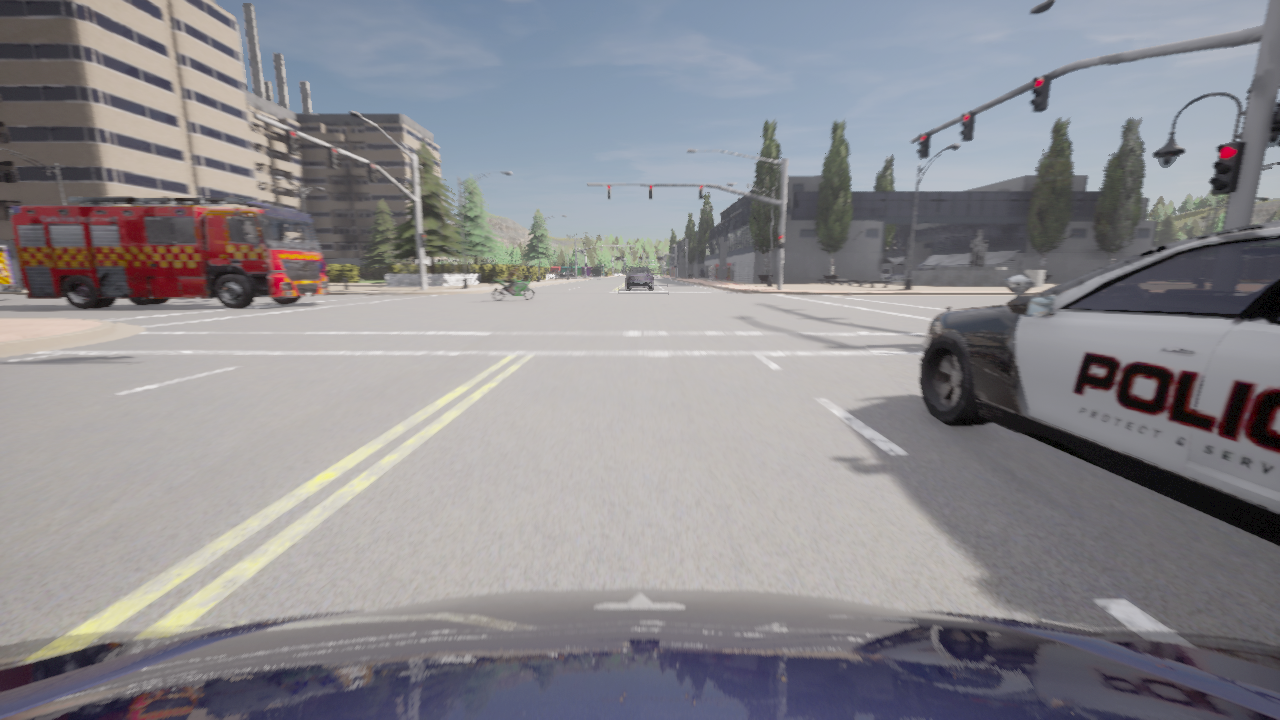cyclist: (0, 588, 1279, 719), (919, 220, 1279, 546), (9, 197, 328, 308), (490, 274, 535, 301), (626, 267, 653, 289), (547, 270, 565, 276), (565, 270, 574, 276), (558, 270, 565, 276), (574, 275, 575, 276)
